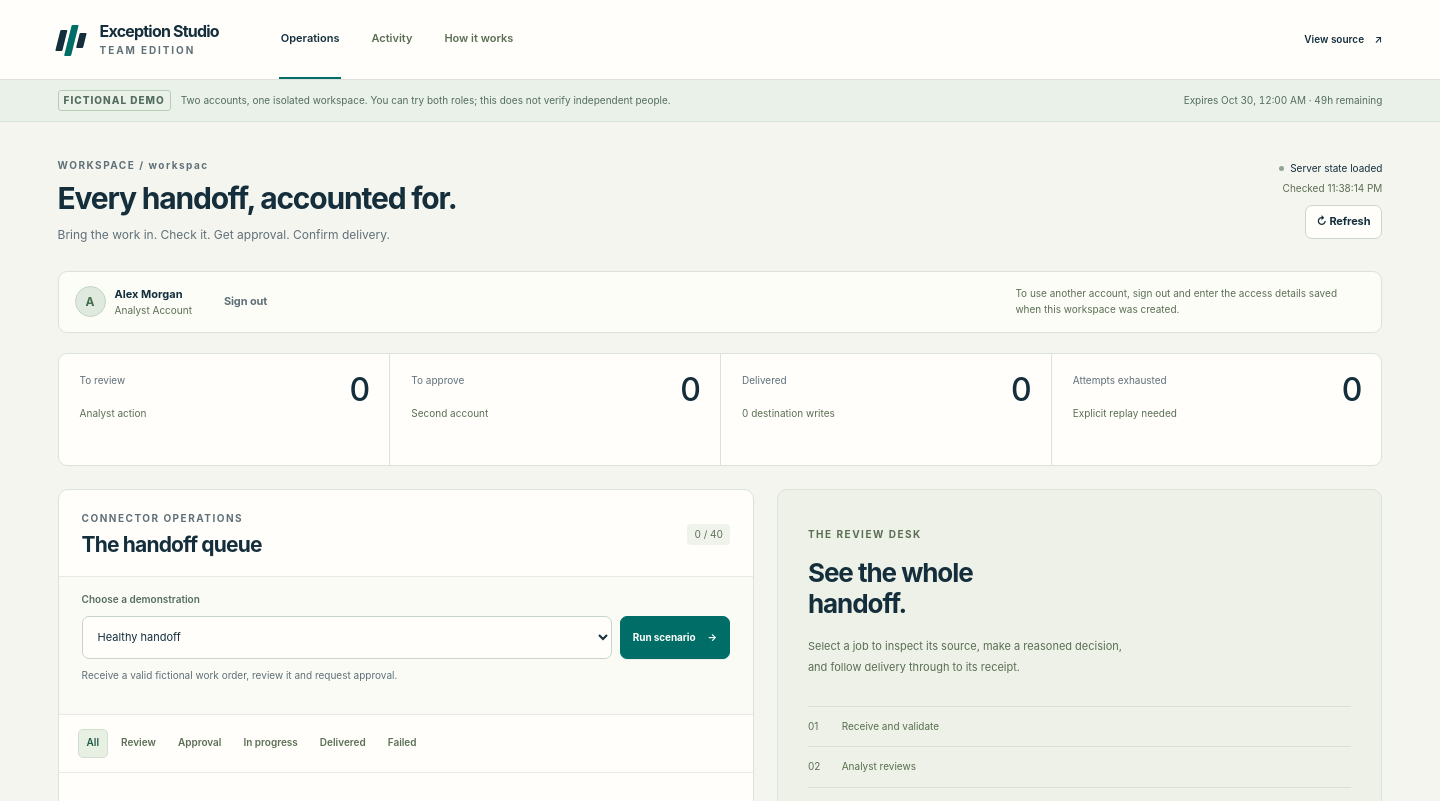
Scenario: Team edition commands and evidence › discloses the server history cap when the latest 500 events are returned
Click the button "Activity" at (392, 40), box 369,0 -> 414,79
(page scrolled)
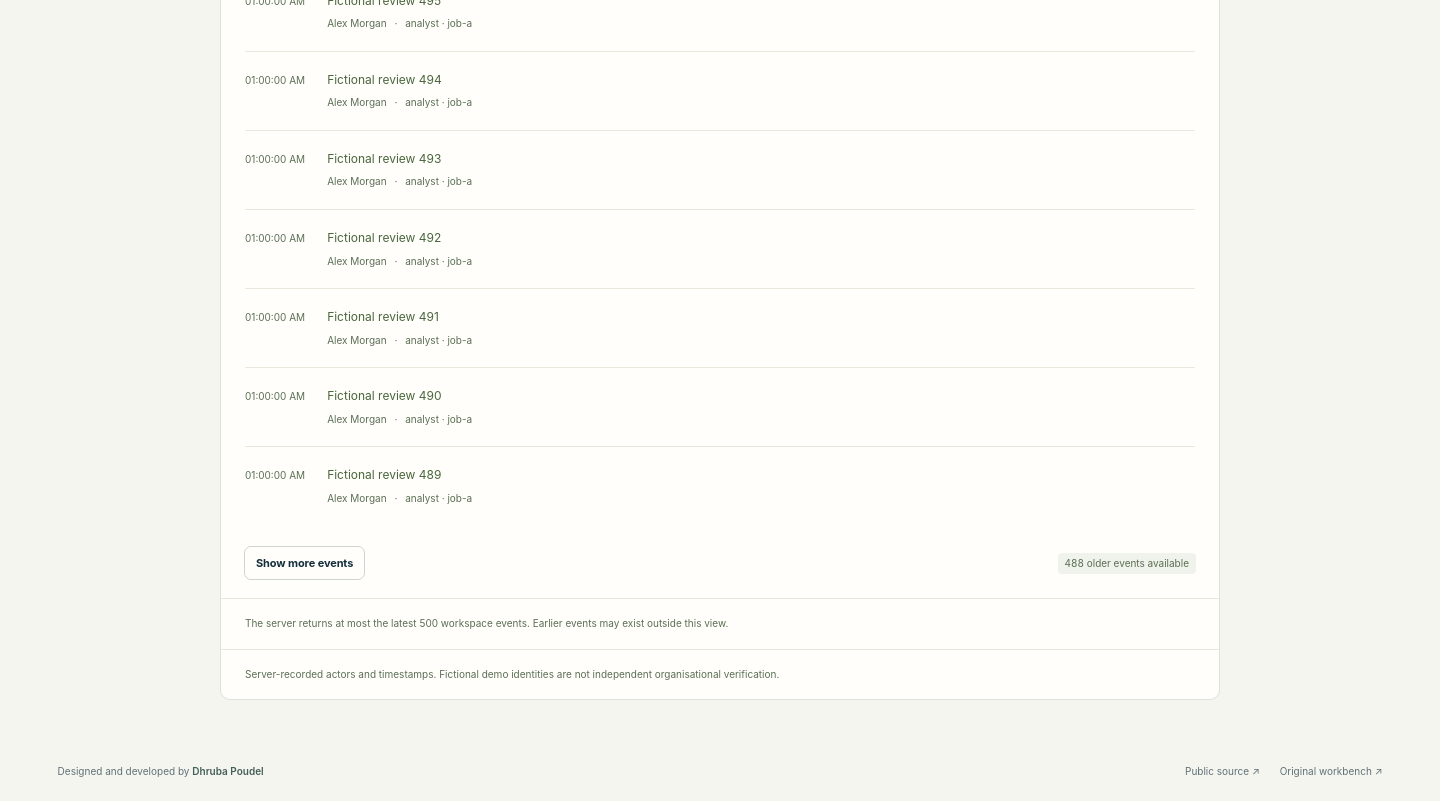
Check: the text "at most the latest 500 workspace events" is shown, box 245,617 -> 728,629
